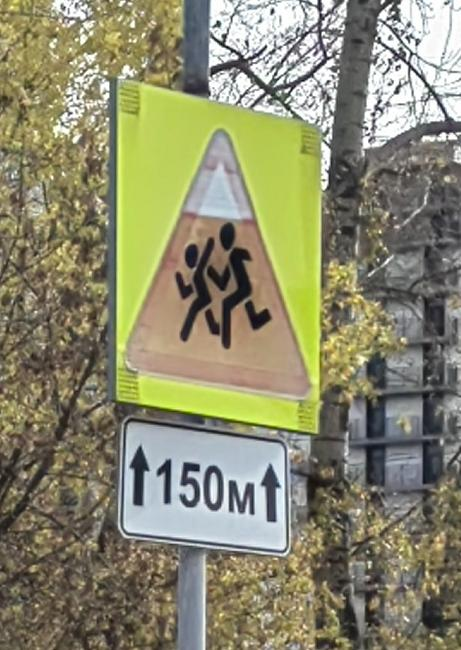road_sign: (115, 79, 318, 435), (123, 416, 290, 554)
